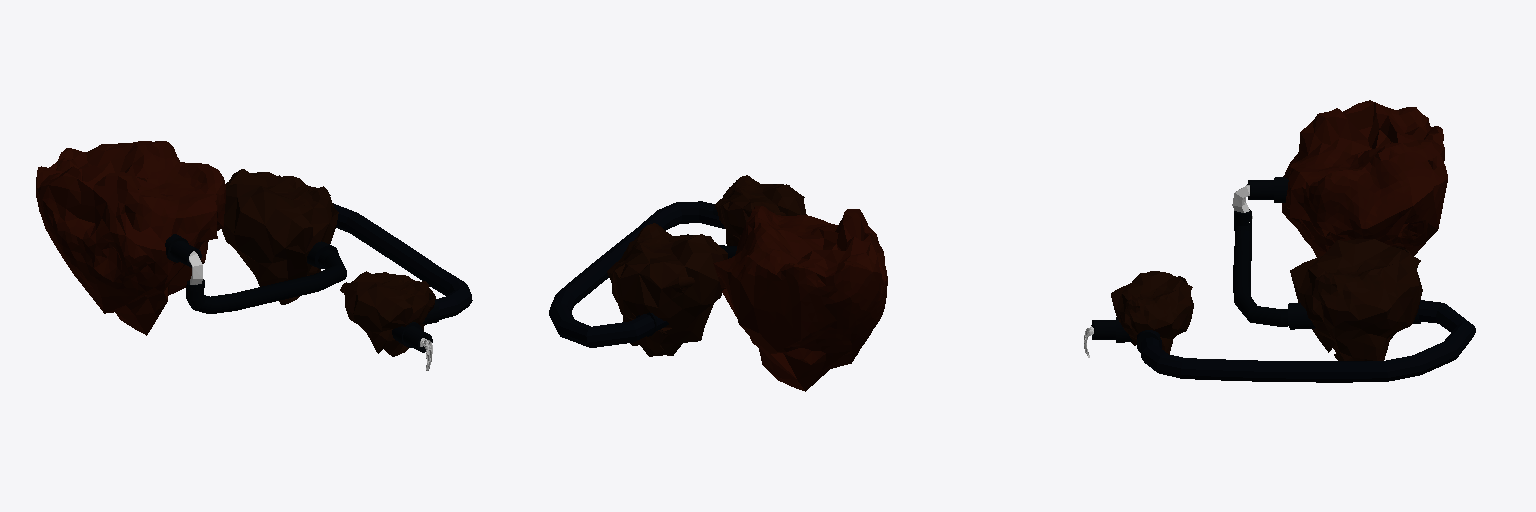
The model's file is floatingland.obj.
3 views of the same model, side by side, from view 1: azimuth 30°, elevation 25°; view 2: azimuth 150°, elevation 25°; view 3: azimuth 270°, elevation 25° (orthographic).
Visible parts, largest first — view 1: Icosphere.001, Icosphere.002_Icosphere.004, Icosphere.003_Icosphere.002, BezierCurve.009_BezierCurve, BezierCurve; view 2: Icosphere.001, Icosphere.002_Icosphere.004, BezierCurve.009_BezierCurve, Icosphere.003_Icosphere.002; view 3: Icosphere.001, Icosphere.002_Icosphere.004, BezierCurve.009_BezierCurve, Icosphere.003_Icosphere.002, BezierCurve, BezierCurve.004.
Part boxes in pixels (x1,y1,x2,y2): Icosphere.001: (36,141,225,335); Icosphere.002_Icosphere.004: (222,169,338,304); Icosphere.003_Icosphere.002: (340,271,435,356); BezierCurve.009_BezierCurve: (333,203,472,319); BezierCurve: (186,250,346,313); Icosphere.001: (713,206,887,391); Icosphere.002_Icosphere.004: (607,223,727,356); BezierCurve.009_BezierCurve: (549,201,724,347); Icosphere.003_Icosphere.002: (714,175,806,245); Icosphere.001: (1282,100,1447,256); Icosphere.002_Icosphere.004: (1290,239,1422,360); BezierCurve.009_BezierCurve: (1141,300,1475,382); Icosphere.003_Icosphere.002: (1111,271,1193,354); BezierCurve: (1233,209,1288,326); BezierCurve.004: (1288,303,1420,329).
Size of the model in its own units: 4.13 by 2.16 by 4.3.